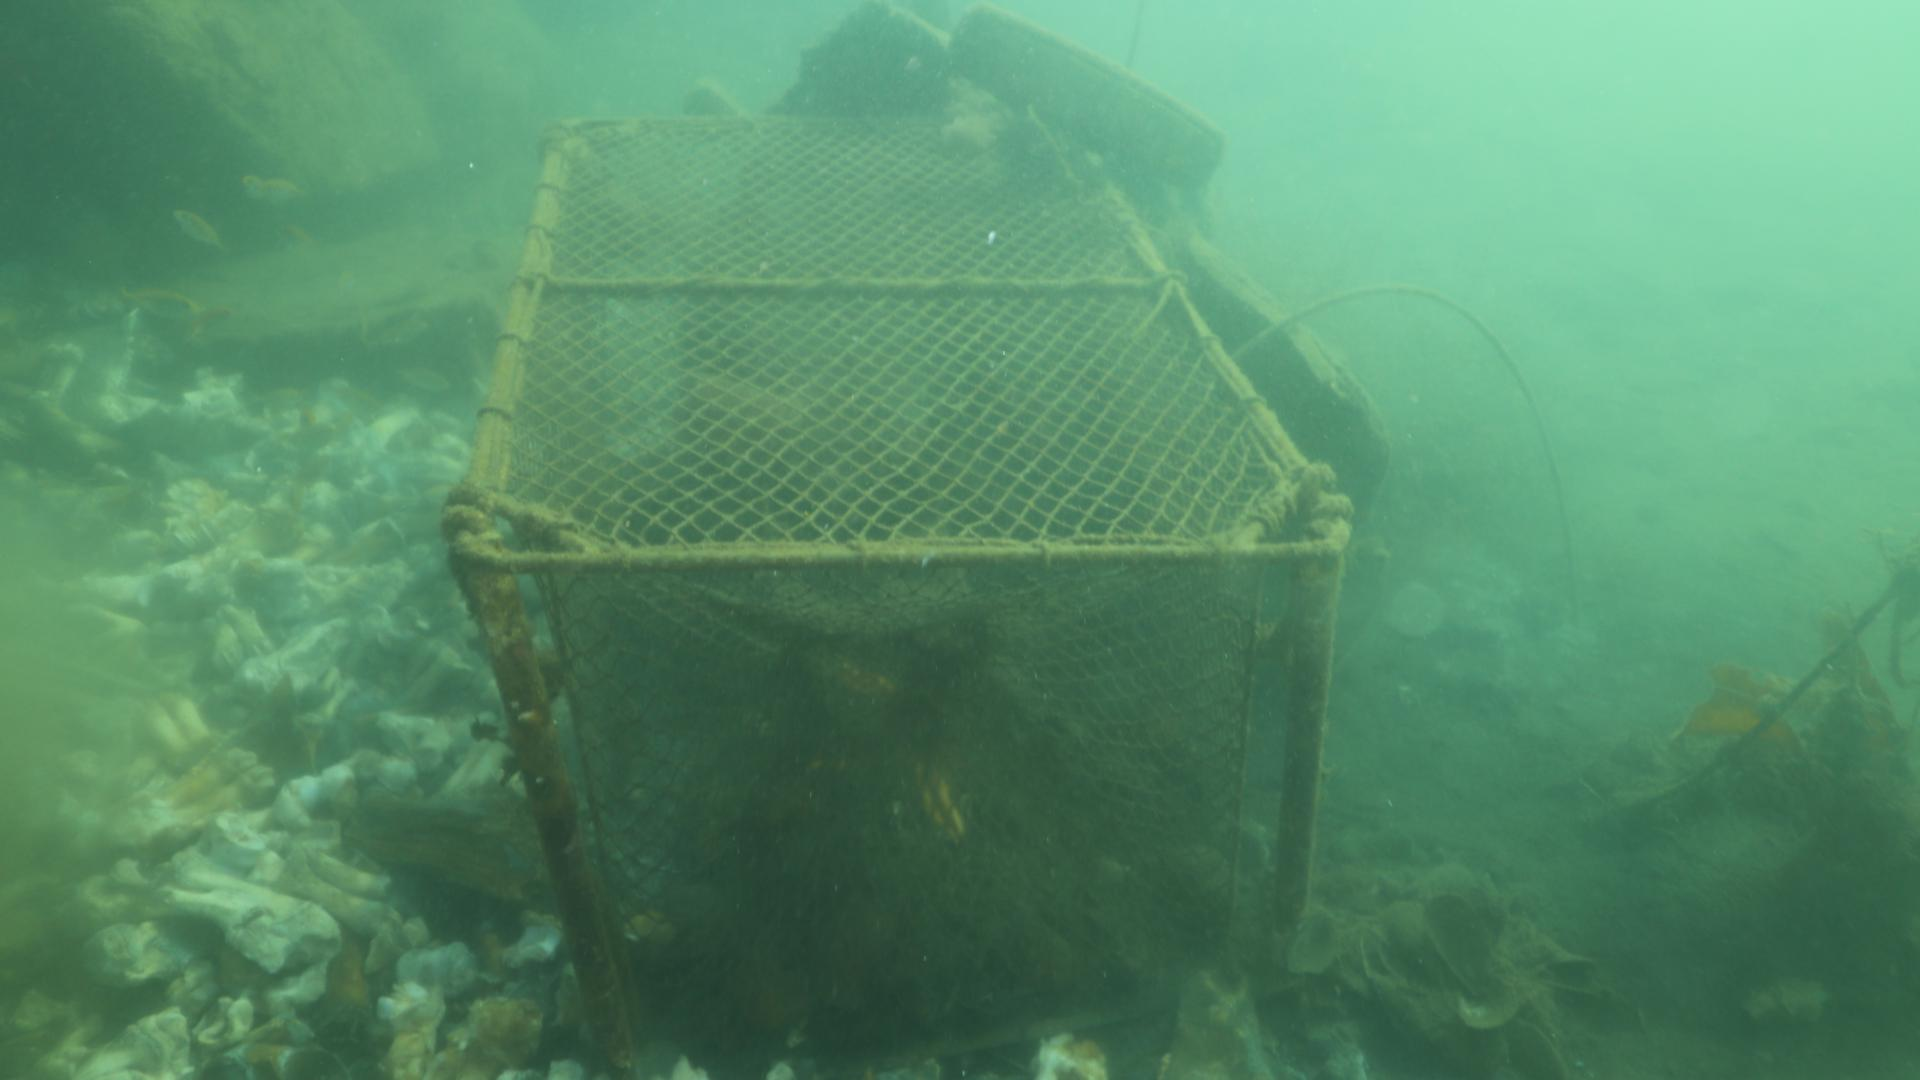rectangular fish trap: (443, 113, 1352, 1080)
